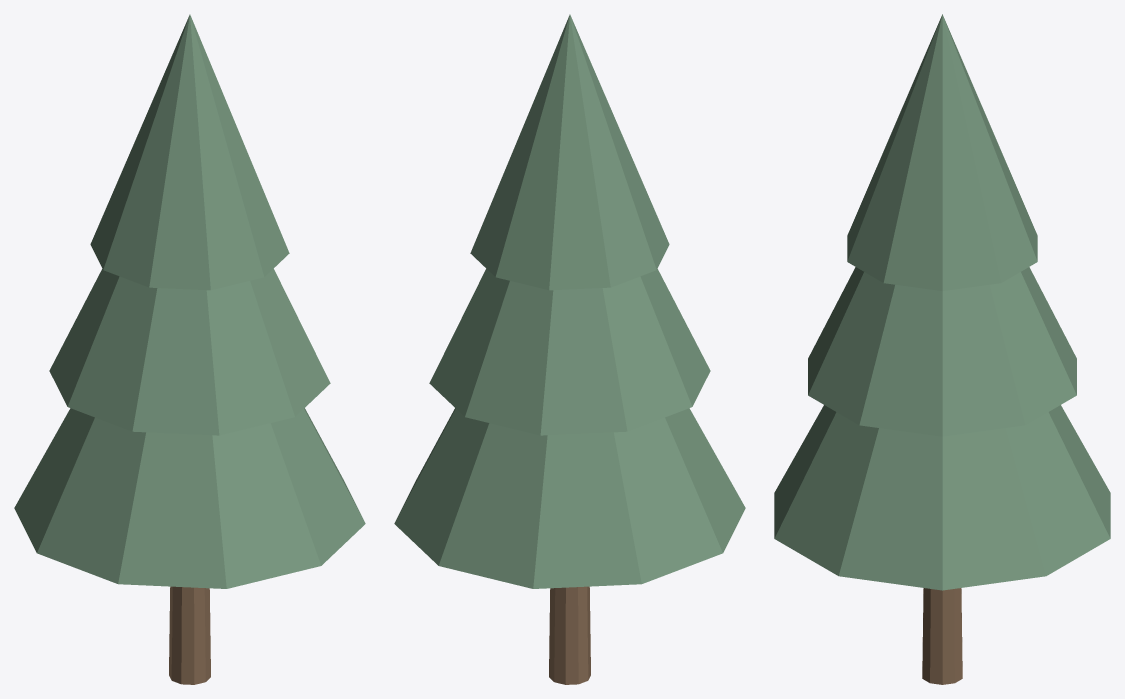
Rendered from openlandcraft-pine.glb.
3 views of the same model, side by side, from view 1: azimuth 30°, elevation 25°; view 2: azimuth 150°, elevation 25°; view 3: azimuth 270°, elevation 25° (orthographic).
Bounding box in the file's own units: 3 × 6.2 × 2.85.
